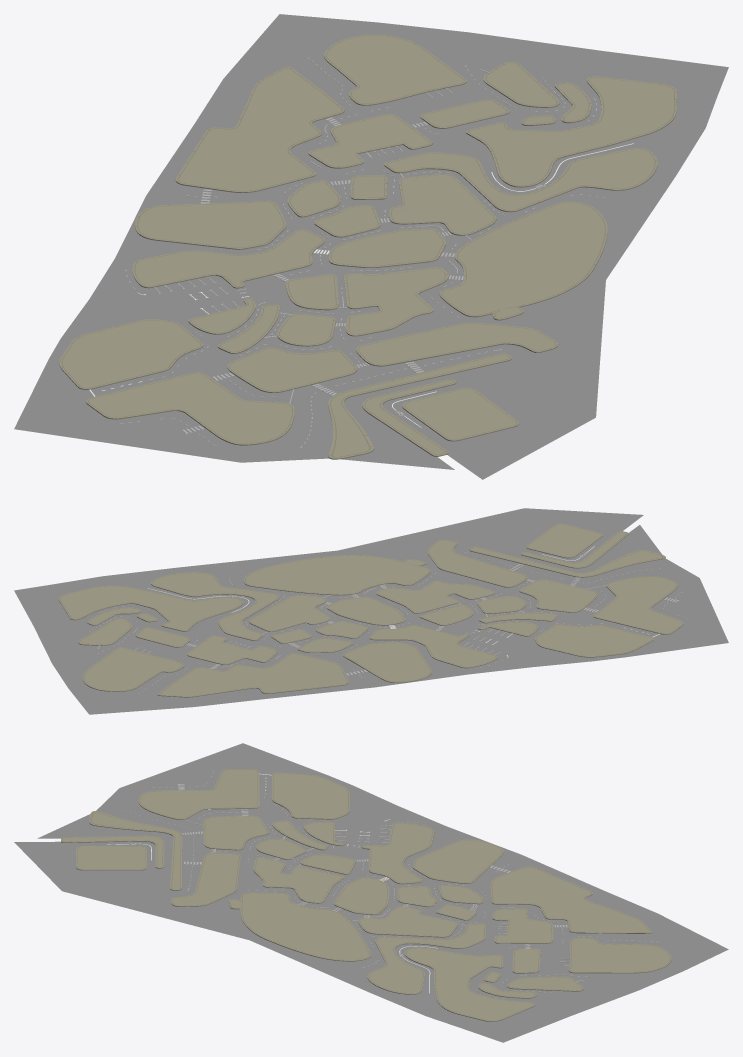
Rendered from loc_01_road.fbx.
3 renders of one model, top to bottom at view 1: azimuth 30°, elevation 25°; view 2: azimuth 150°, elevation 25°; view 3: azimuth 270°, elevation 25°, orthographic. The views are drawn at different scales.
Visible parts, largest first — view 1: env_road_01, env_sidewalk_06, env_sidewalk_21, env_sidewalk_28, env_sidewalk_03, grass_field, env_sidewalk_13, env_sidewalk_23, env_sidewalk_18, env_sidewalk_20, env_sidewalk_14, env_sidewalk_05 (+19 smaller); view 2: env_road_01, env_sidewalk_06, env_sidewalk_21, env_sidewalk_28, env_sidewalk_03, grass_field, env_sidewalk_13, env_sidewalk_23, env_sidewalk_18, env_sidewalk_20, env_sidewalk_14, env_sidewalk_08 (+19 smaller); view 3: env_road_01, env_sidewalk_06, env_sidewalk_21, env_sidewalk_28, env_sidewalk_03, grass_field, env_sidewalk_23, env_sidewalk_13, env_sidewalk_18, env_sidewalk_20, env_sidewalk_14, env_sidewalk_08 (+17 smaller).
Boxes of the visible parts, x1,y1,x2,y2 form: env_road_01: (14,14,728,479); env_sidewalk_06: (439,201,607,317); env_sidewalk_21: (175,66,344,192); env_sidewalk_28: (466,76,676,187); env_sidewalk_03: (86,372,294,445); grass_field: (341,361,574,469); env_sidewalk_13: (59,319,203,389); env_sidewalk_23: (324,34,466,105); env_sidewalk_18: (384,148,657,212); env_sidewalk_20: (135,201,286,249); env_sidewalk_14: (132,229,324,288); env_sidewalk_05: (356,322,558,366); env_road_01: (14,508,728,714); env_sidewalk_06: (243,555,430,595); env_sidewalk_21: (157,653,348,697); env_sidewalk_28: (58,585,243,631); env_sidewalk_03: (593,576,683,634); grass_field: (478,516,661,572); env_sidewalk_13: (534,624,653,657); env_sidewalk_23: (82,647,184,691); env_sidewalk_18: (151,572,279,640); env_sidewalk_20: (343,642,431,683); env_sidewalk_14: (369,625,497,668); env_sidewalk_08: (376,580,494,613); env_road_01: (14,743,728,1042); env_sidewalk_06: (240,892,371,961); env_sidewalk_21: (490,866,652,933); env_sidewalk_28: (404,947,535,1021); env_sidewalk_03: (138,769,259,819); grass_field: (37,814,173,888); env_sidewalk_23: (568,937,671,973); env_sidewalk_13: (271,772,349,819); env_sidewalk_18: (367,923,486,994); env_sidewalk_20: (412,839,503,883); env_sidewalk_14: (362,822,434,884); env_sidewalk_08: (253,857,343,903).
Size of what is drawn, in the model's own units: 15984 by 15.7 by 16117.
